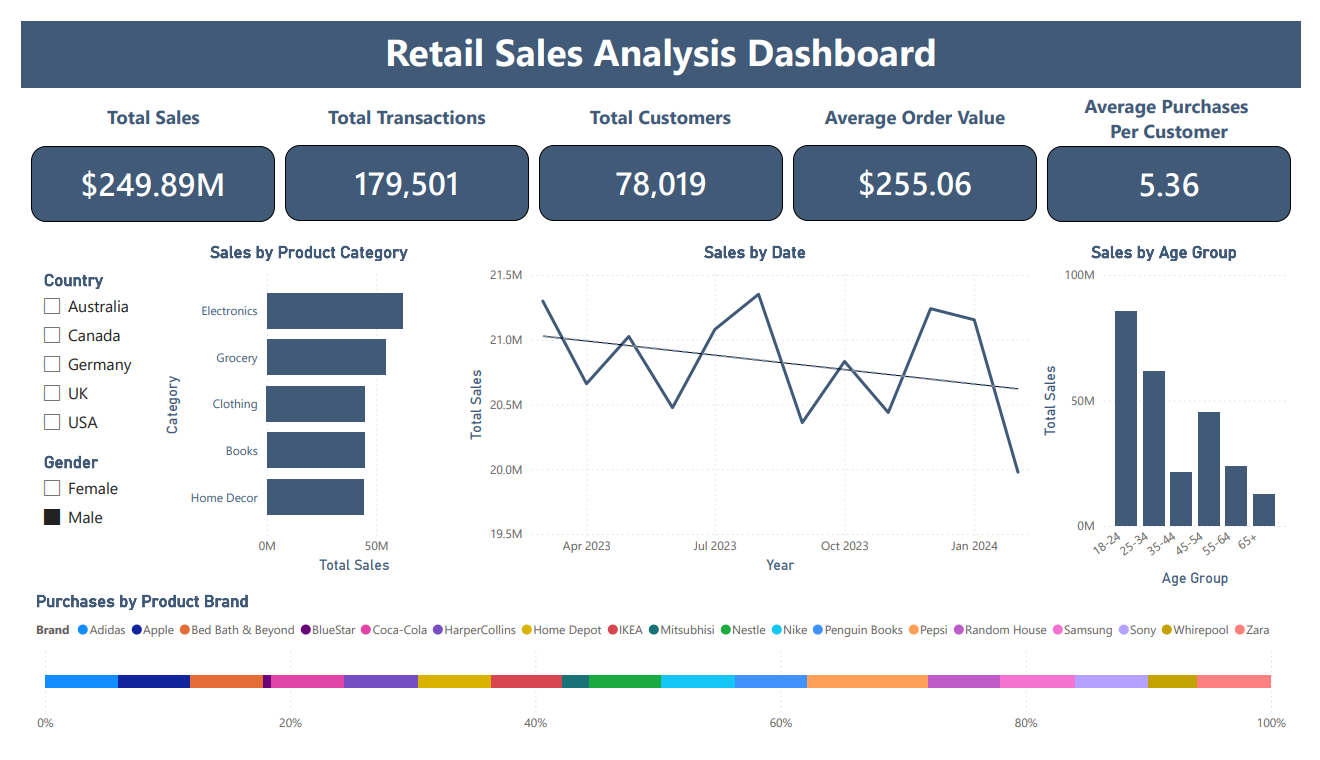

The dashboard page shown, as its layout file describes it:
{"tool":"powerbi","page":{"name":"Page 1","canvas":[1280,720],"ordinal":0},"visuals":[{"type":"barChart","title":"Sales by Product Category","fields":{"Category":["new_retail_data.Product_Category"],"Y":["Sum(new_retail_data.Total_Amount)"]},"box":[138.4,220.9,300,336],"z":0},{"type":"lineChart","title":"Sales by Date","fields":{"Category":["new_retail_data.Date.Variation.Date Hierarchy.Year","new_retail_data.Date.Variation.Date Hierarchy.Month"],"Y":["Sum(new_retail_data.Total_Amount)"]},"box":[441.9,220.9,583.7,336],"z":1000},{"type":"textbox","box":[0,0,1280.3,67.2],"z":2000},{"type":"cardVisual","fields":{"Data":["Count(new_retail_data.Transaction_ID)"]},"box":[264,124.4,244.2,76],"z":3000},{"type":"slicer","fields":{"Values":["new_retail_data.Country"]},"box":[10.5,244.2,111.6,181.4],"z":4000},{"type":"cardVisual","fields":{"Data":["Avg(new_retail_data.Total_Purchases)"]},"box":[1026,125,244.2,76],"z":5000},{"type":"cardVisual","fields":{"Data":["Sum(new_retail_data.Total_Amount)"]},"box":[10,125,244.2,76],"z":6000},{"type":"cardVisual","fields":{"Data":["new_retail_data.Average Order Value"]},"box":[772,124.4,244.2,76],"z":7000},{"type":"cardVisual","fields":{"Data":["Count(new_retail_data.Customer_ID)"]},"box":[518,124.4,244.2,76],"z":8000},{"type":"textbox","box":[10.5,77.9,244.2,46.5],"z":9000},{"type":"textbox","box":[264,77.9,244.2,46.5],"z":10000},{"type":"textbox","box":[517.4,77.9,244.2,46.5],"z":11000},{"type":"textbox","box":[772.1,77.9,244.2,46.5],"z":12000},{"type":"textbox","box":[1025.6,67.4,244.2,66.3],"z":13000},{"type":"slicer","fields":{"Values":["new_retail_data.Gender"]},"box":[10.5,425.6,111.6,90.7],"z":14000},{"type":"hundredPercentStackedBarChart","title":"Purchases by Product Brand","fields":{"Series":["new_retail_data.Product_Brand"],"Y":["Sum(new_retail_data.Total_Purchases)"]},"box":[10.5,569.8,1259.3,150],"z":15000},{"type":"columnChart","title":"Sales by Age Group","fields":{"Category":["new_retail_data.Age Group"],"Y":["Sum(new_retail_data.Total_Amount)"]},"box":[1016.3,220.9,253.5,348.8],"z":16000}]}

Visuals, with their boxes in screenshot pixels (x1, y1, x2, y2), scaled from the page's 1280x720 canvas onto the 1320x760 screenshot:
"Sales by Product Category" barChart: box=[143, 233, 452, 588]
"Sales by Date" lineChart: box=[456, 233, 1058, 588]
textbox: box=[0, 0, 1319, 71]
cardVisual - Count(new_retail_data.Transaction_ID): box=[272, 131, 524, 212]
slicer - new_retail_data.Country: box=[11, 258, 126, 449]
cardVisual - Avg(new_retail_data.Total_Purchases): box=[1058, 132, 1310, 212]
cardVisual - Sum(new_retail_data.Total_Amount): box=[10, 132, 262, 212]
cardVisual - new_retail_data.Average Order Value: box=[796, 131, 1048, 212]
cardVisual - Count(new_retail_data.Customer_ID): box=[534, 131, 786, 212]
textbox: box=[11, 82, 263, 131]
textbox: box=[272, 82, 524, 131]
textbox: box=[534, 82, 785, 131]
textbox: box=[796, 82, 1048, 131]
textbox: box=[1058, 71, 1309, 141]
slicer - new_retail_data.Gender: box=[11, 449, 126, 545]
"Purchases by Product Brand" hundredPercentStackedBarChart: box=[11, 601, 1309, 759]
"Sales by Age Group" columnChart: box=[1048, 233, 1309, 601]
